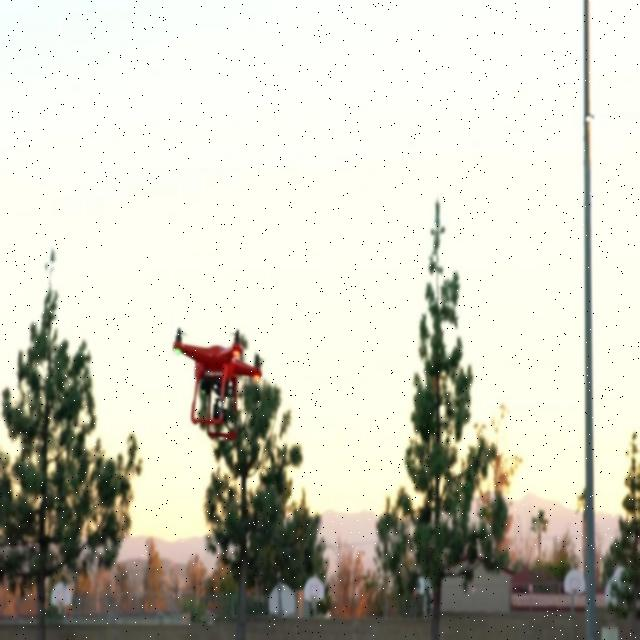UAV: (172, 325, 262, 443)
